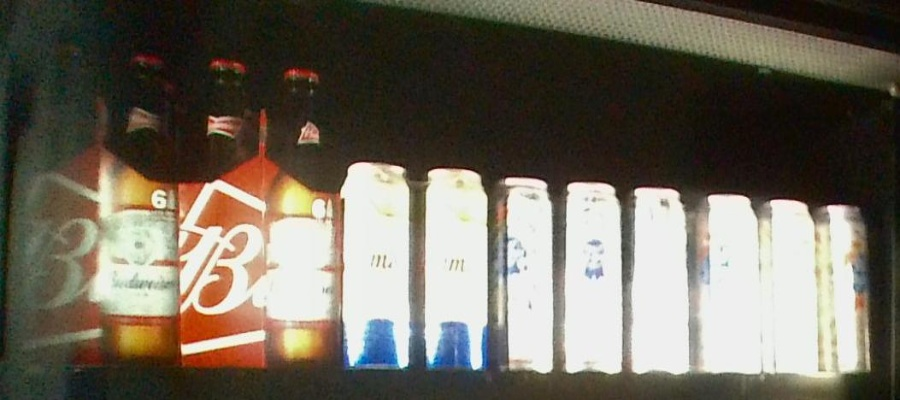bottle: (20, 40, 178, 368), (183, 55, 341, 365), (494, 172, 690, 368), (693, 195, 876, 376), (343, 157, 495, 371)
